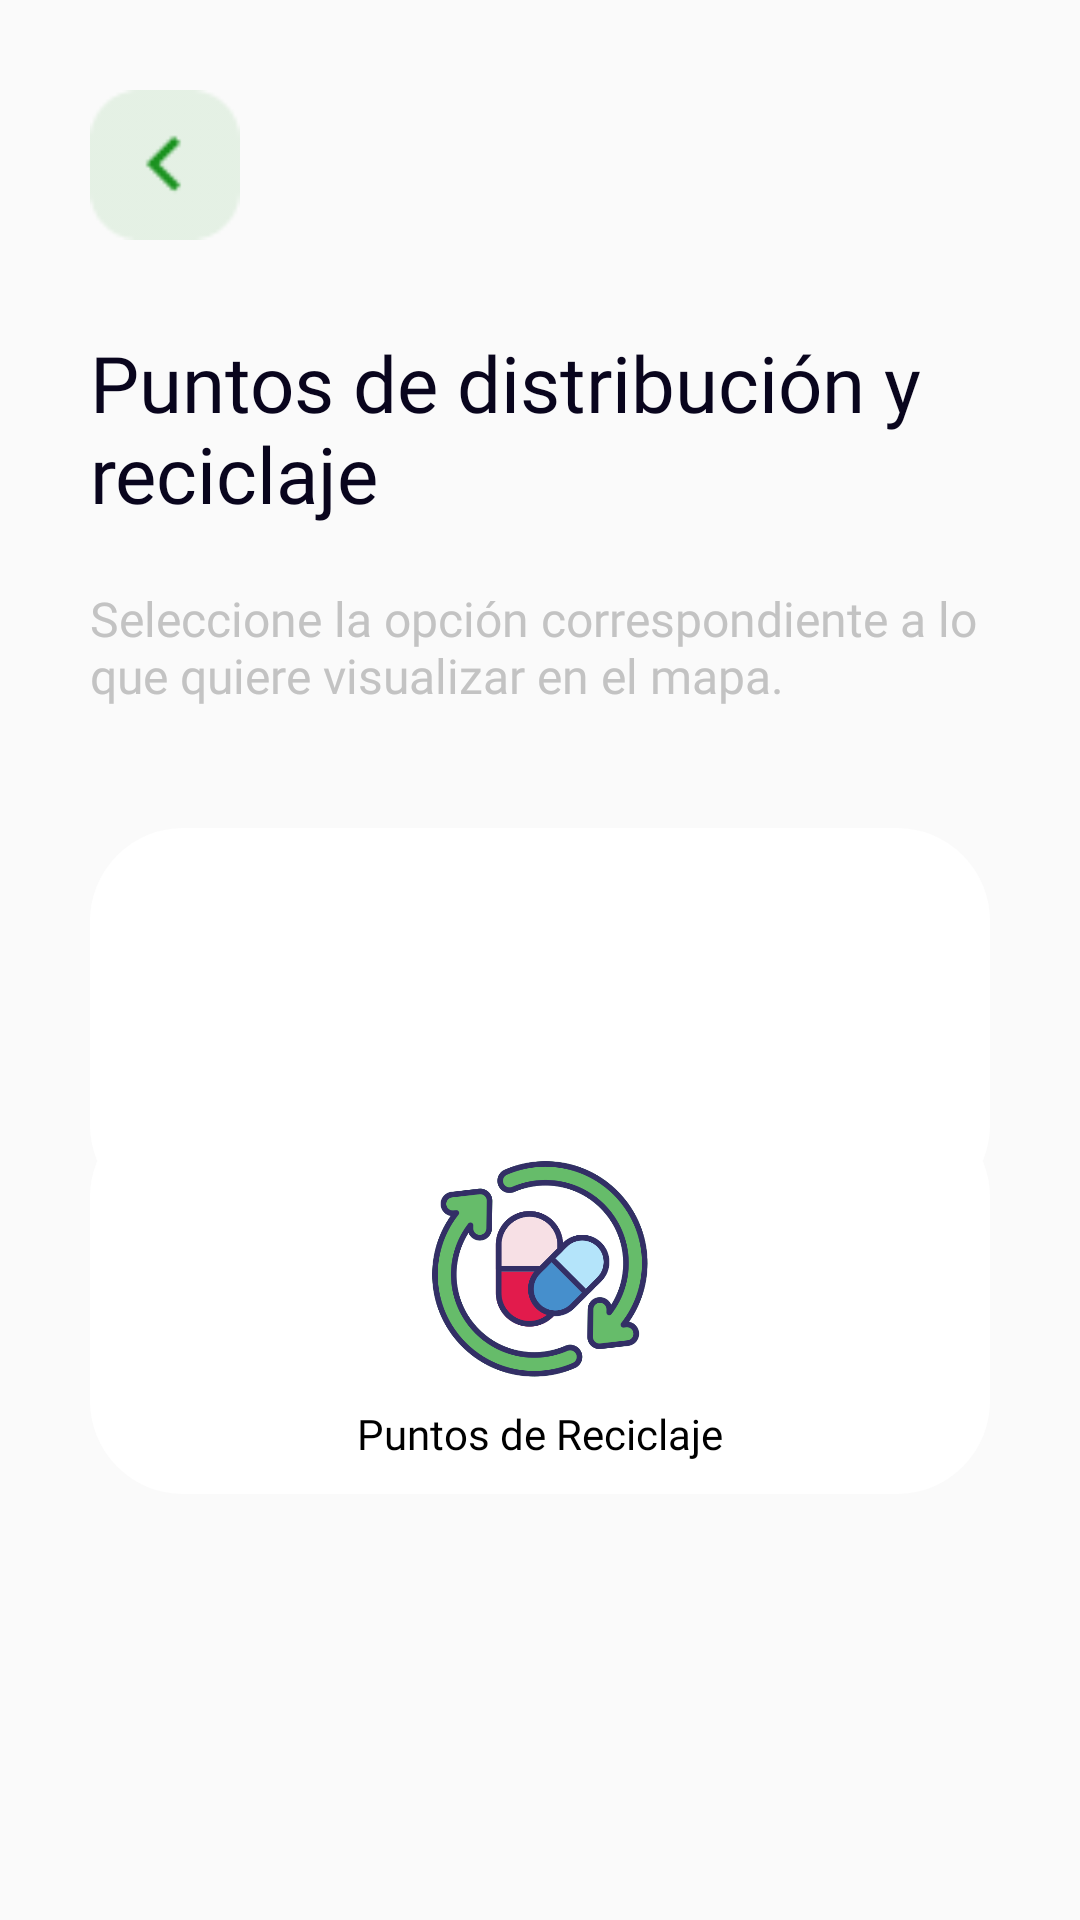

Point at icon controls on the screen. Image size 1080w x 1920h, points as (x,y).
iconback: (163,164)
